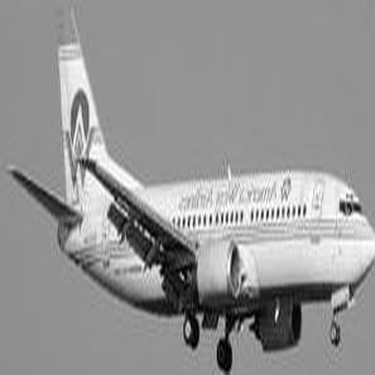airplane: (4, 2, 371, 370)
